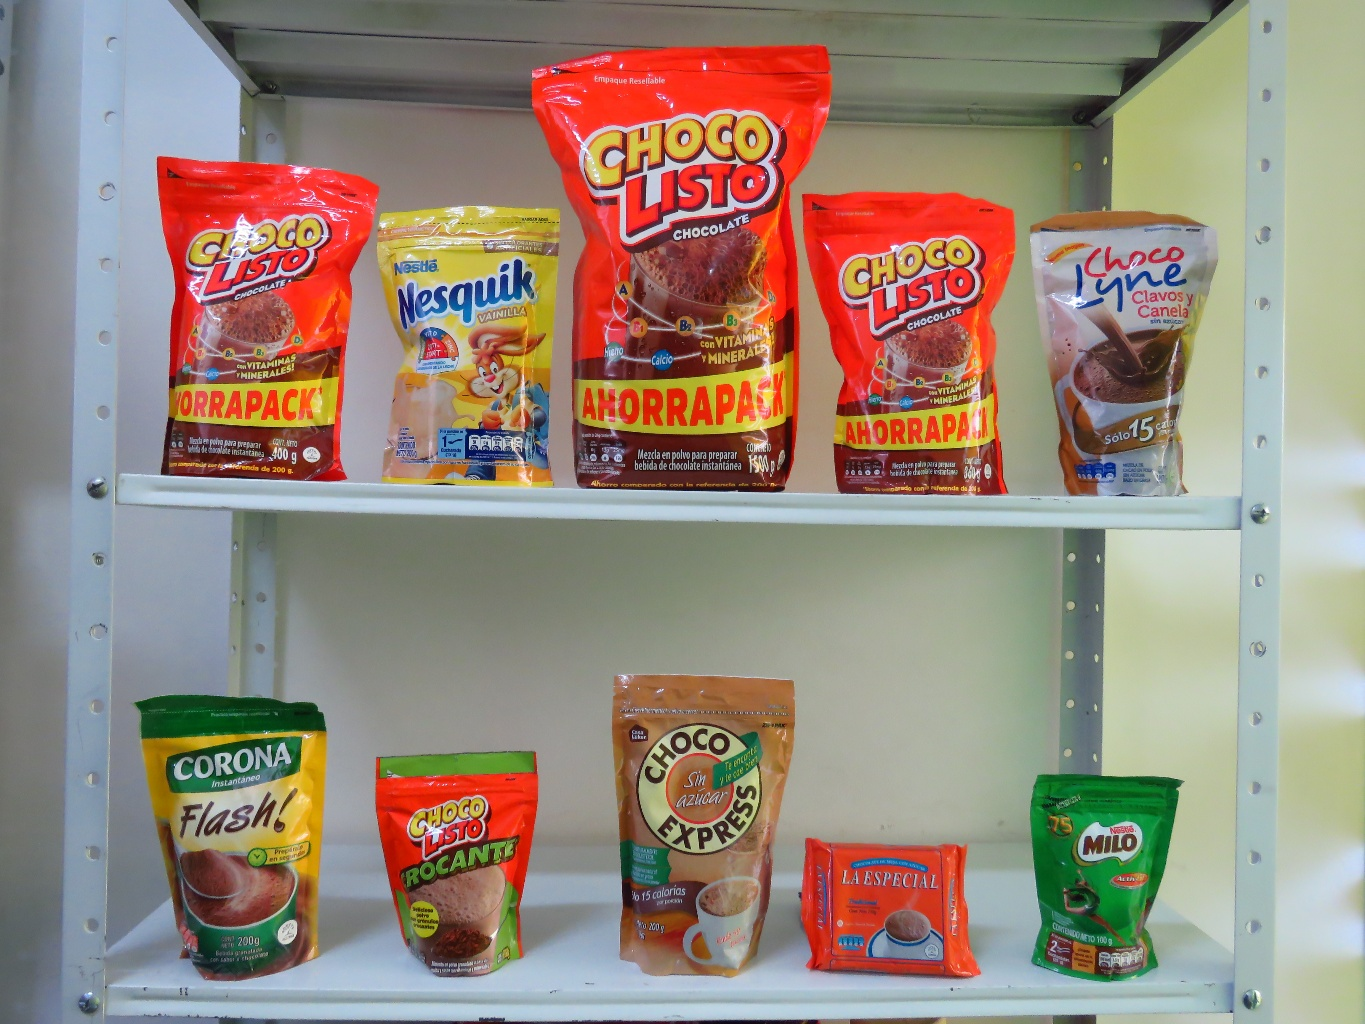COL0170102DYP10000: (374, 753, 539, 976)
COL0170103DYP1,500: (528, 45, 834, 492)
COL0170103DYP36000: (804, 189, 1025, 498)
COL0170103DYP40000: (154, 152, 379, 484)
COL0170203DYP10000: (1033, 774, 1185, 983)
COL0170306DYP20000: (381, 208, 561, 488)
